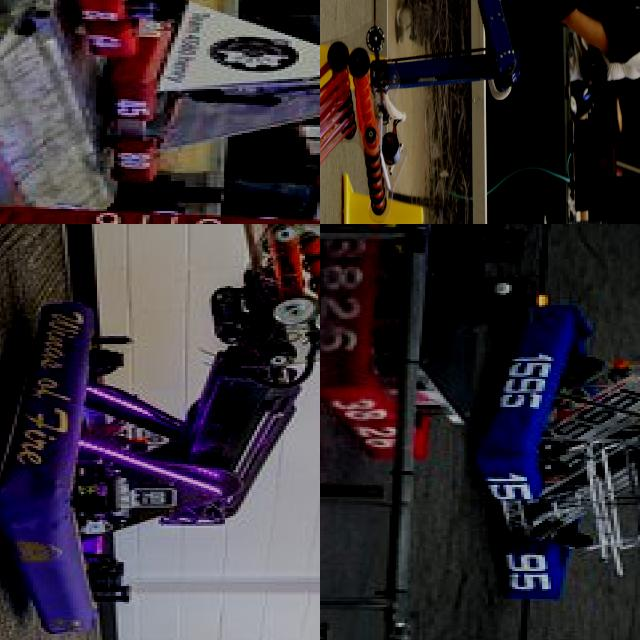FRC-Robots: (0, 224, 320, 626), (320, 224, 548, 467), (481, 296, 640, 610), (320, 0, 529, 224), (93, 0, 320, 187), (56, 0, 265, 59)
